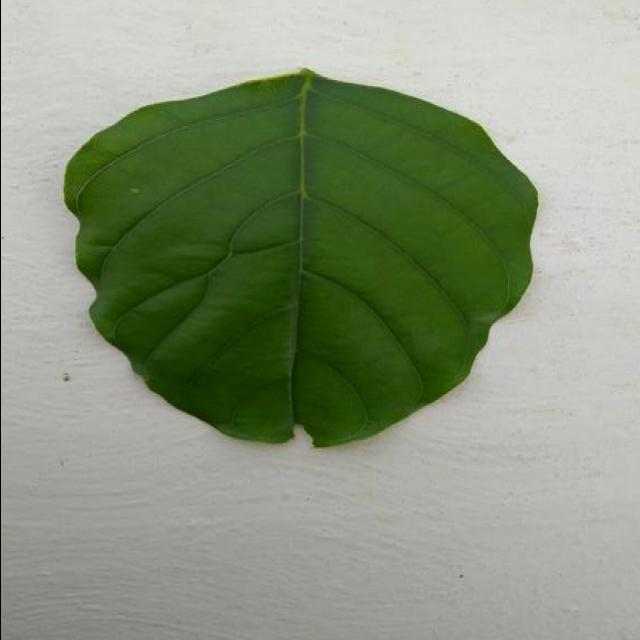leaf: (62, 66, 539, 448)
